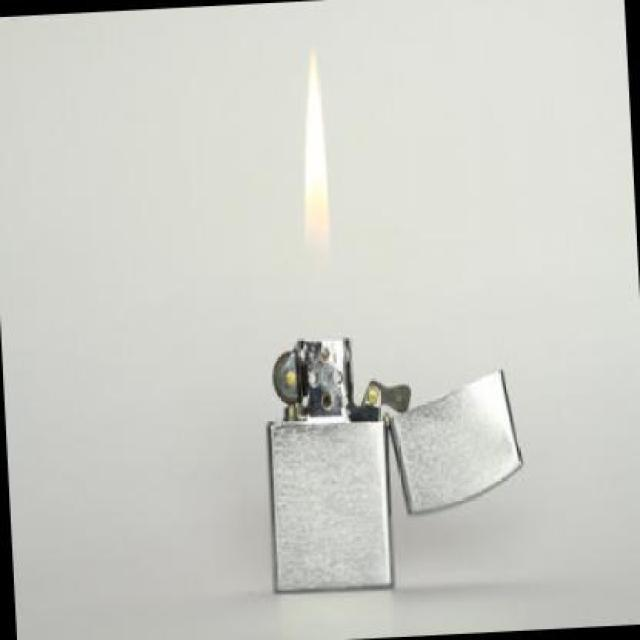Fire: (279, 36, 354, 335), (352, 204, 363, 204)
